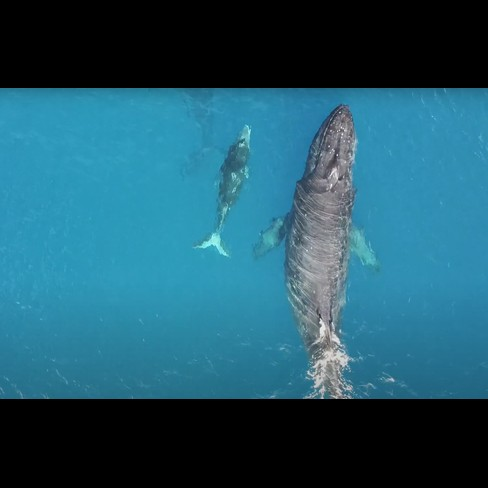hump: (253, 100, 385, 398), (190, 117, 251, 266)
